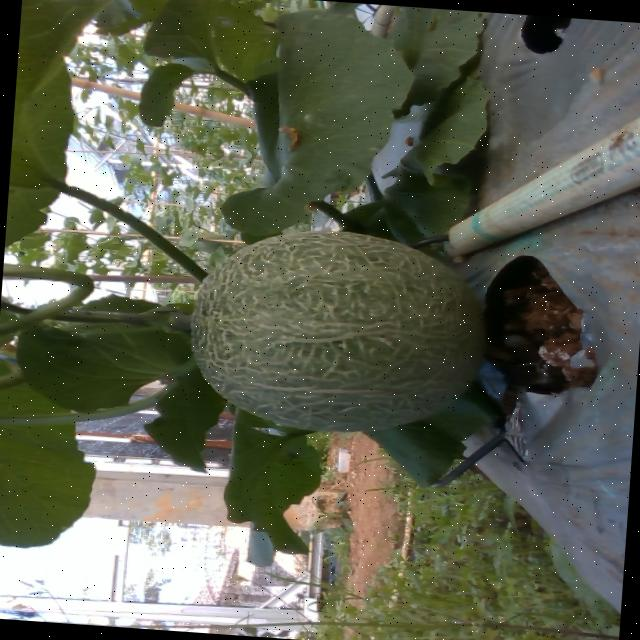melon: (192, 230, 484, 429)
